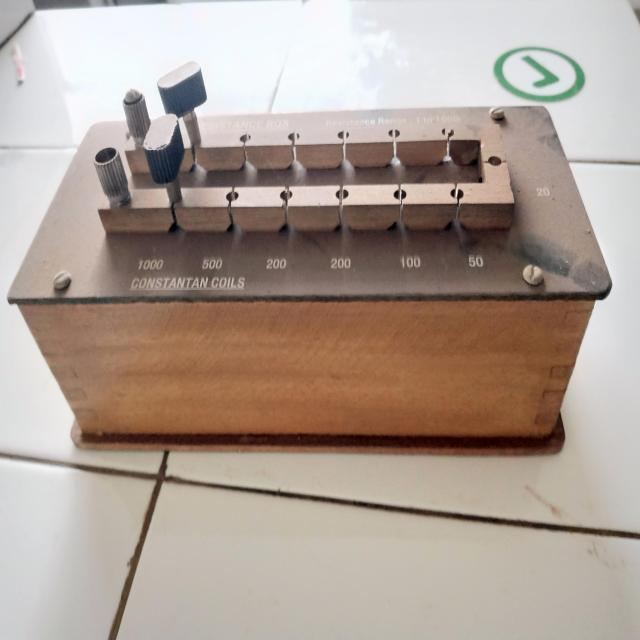Pinned Resistance Box: (0, 63, 617, 476)
